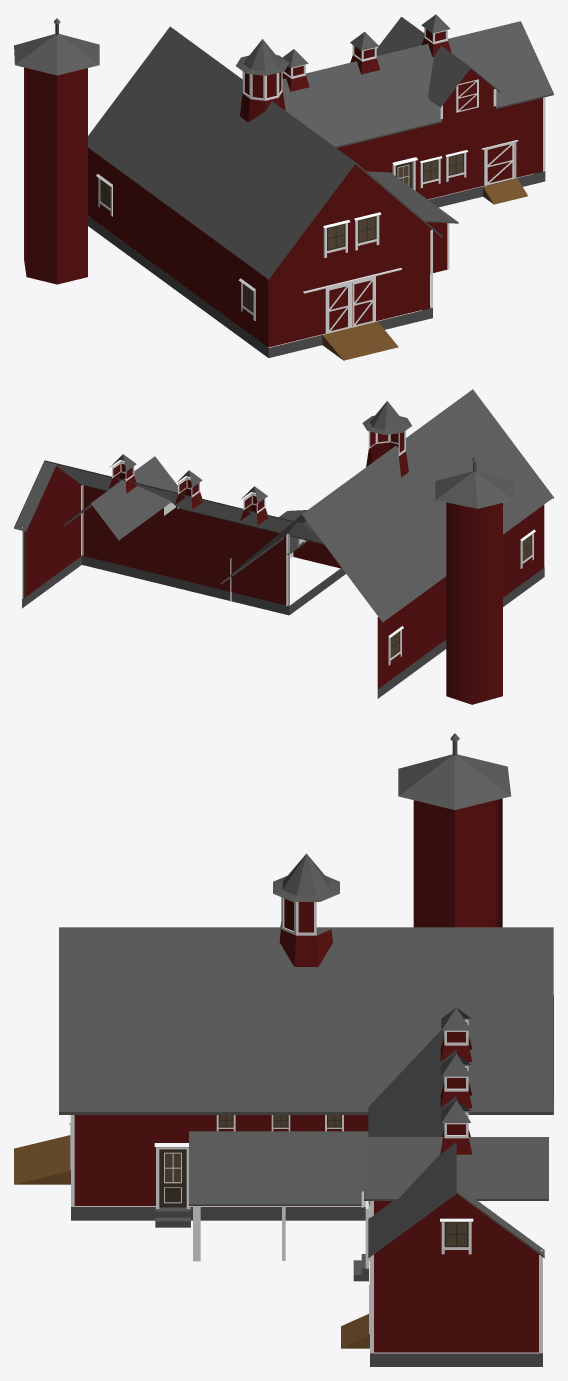
File: Barn.fbx
3 renders of one model, top to bottom at view 1: azimuth 30°, elevation 25°; view 2: azimuth 150°, elevation 25°; view 3: azimuth 270°, elevation 25°, orthographic. The views are drawn at different scales.
Visible parts, largest first — view 1: Barn; view 2: Barn; view 3: Barn.
Part boxes in pixels (x1,y1,x2,y2): Barn: (14,14,553,360); Barn: (14,389,553,704); Barn: (14,733,553,1366).
Bounding box in the file's own units: 41.91 × 19.9 × 28.96.
